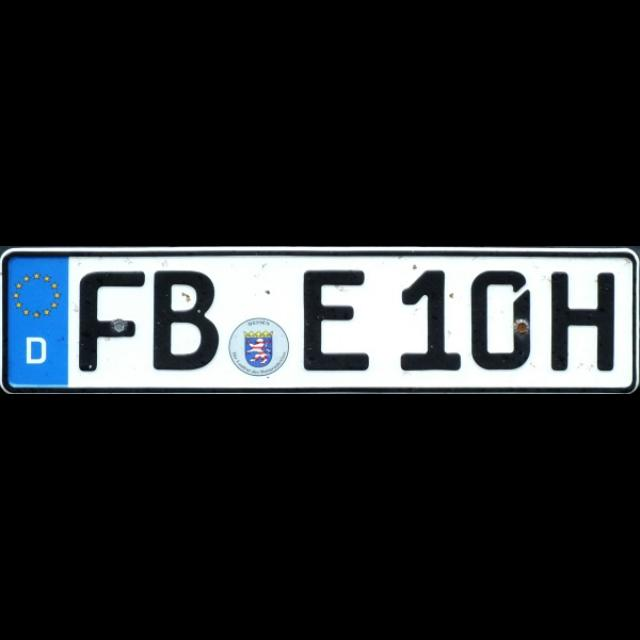d_license_plate: (3, 251, 635, 393)
